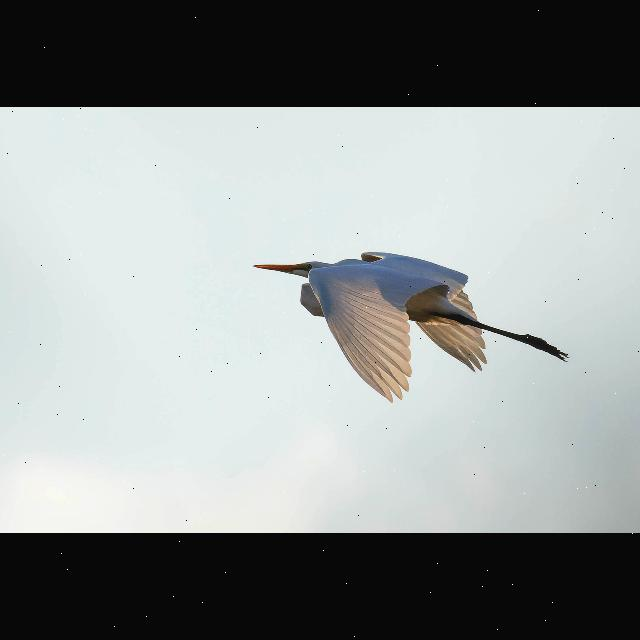egret: (244, 240, 574, 400)
